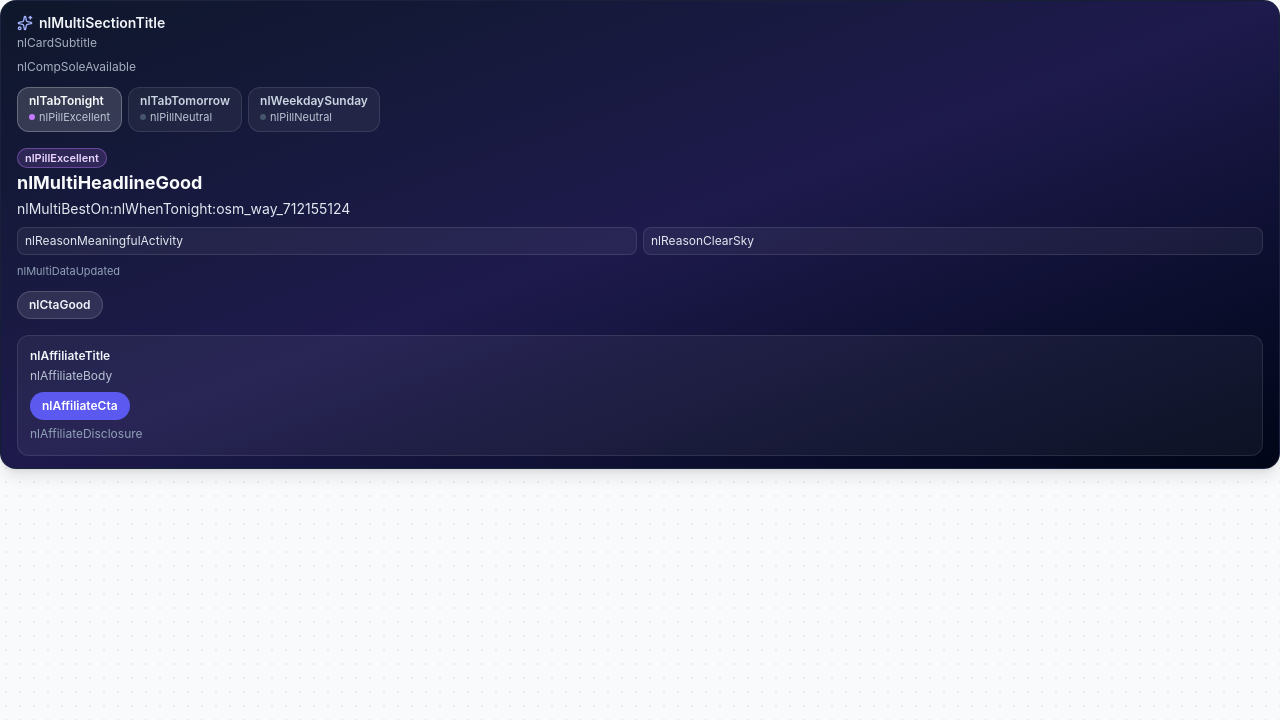
Test: NorthernLightsThreeNight — tab selection updates content atomically › selecting an unavailable night never retains the previous night's map
Check: the element with test id "nl3-result" is shown, box [17,144,1263,319]
Click the button "nlCtaGood" at {"x": 60, "y": 305}, box [17,291,103,319]
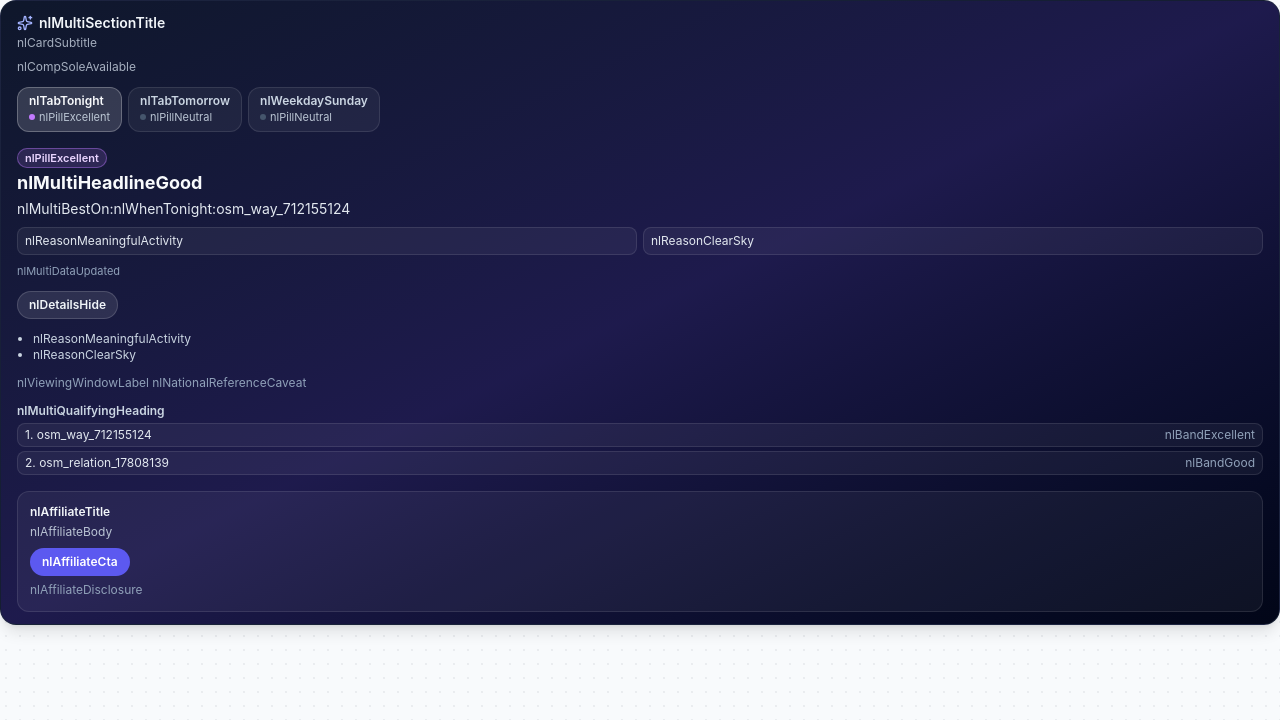
Click the button "nlTabTomorrow nlPillNeutral" at {"x": 185, "y": 109}, box [128,87,242,132]
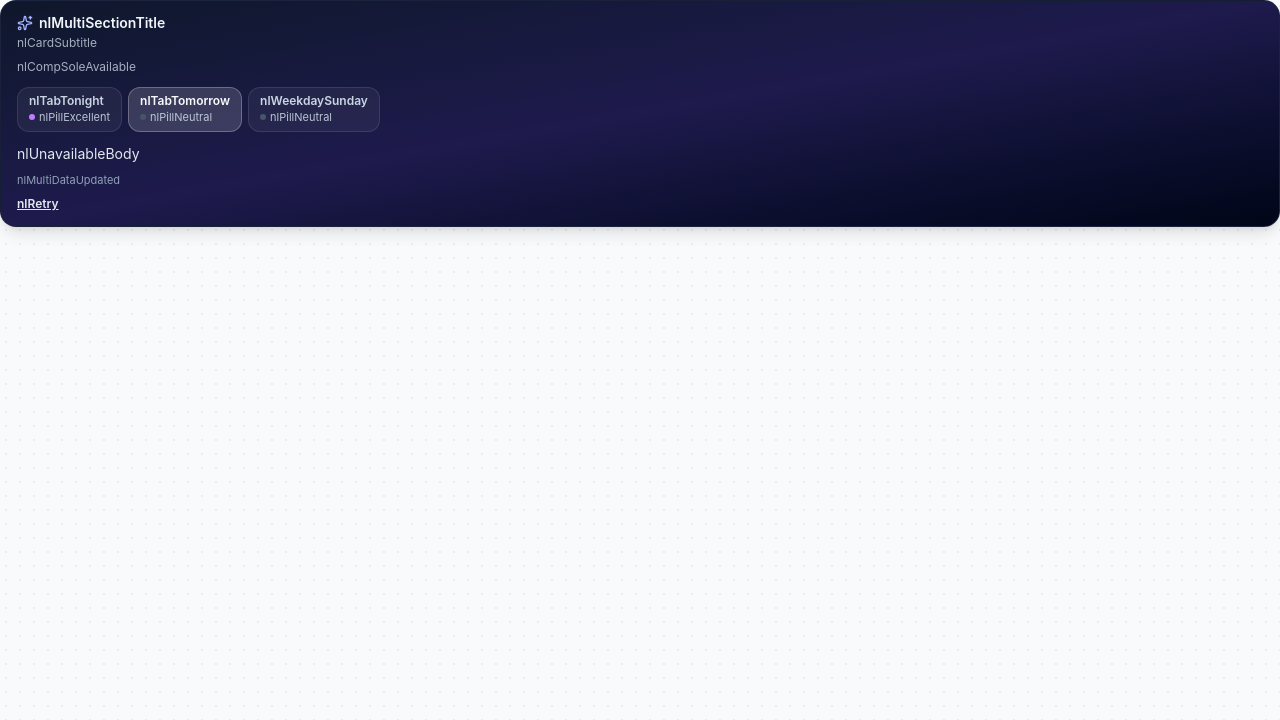
Check: the element with test id "nl3-unavailable" is shown, box [17,144,140,212]
